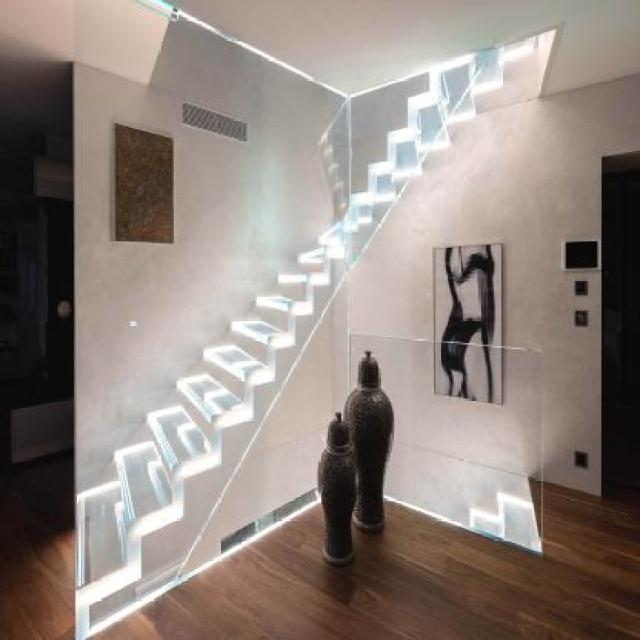stair: (52, 92, 342, 608), (346, 45, 497, 238)
